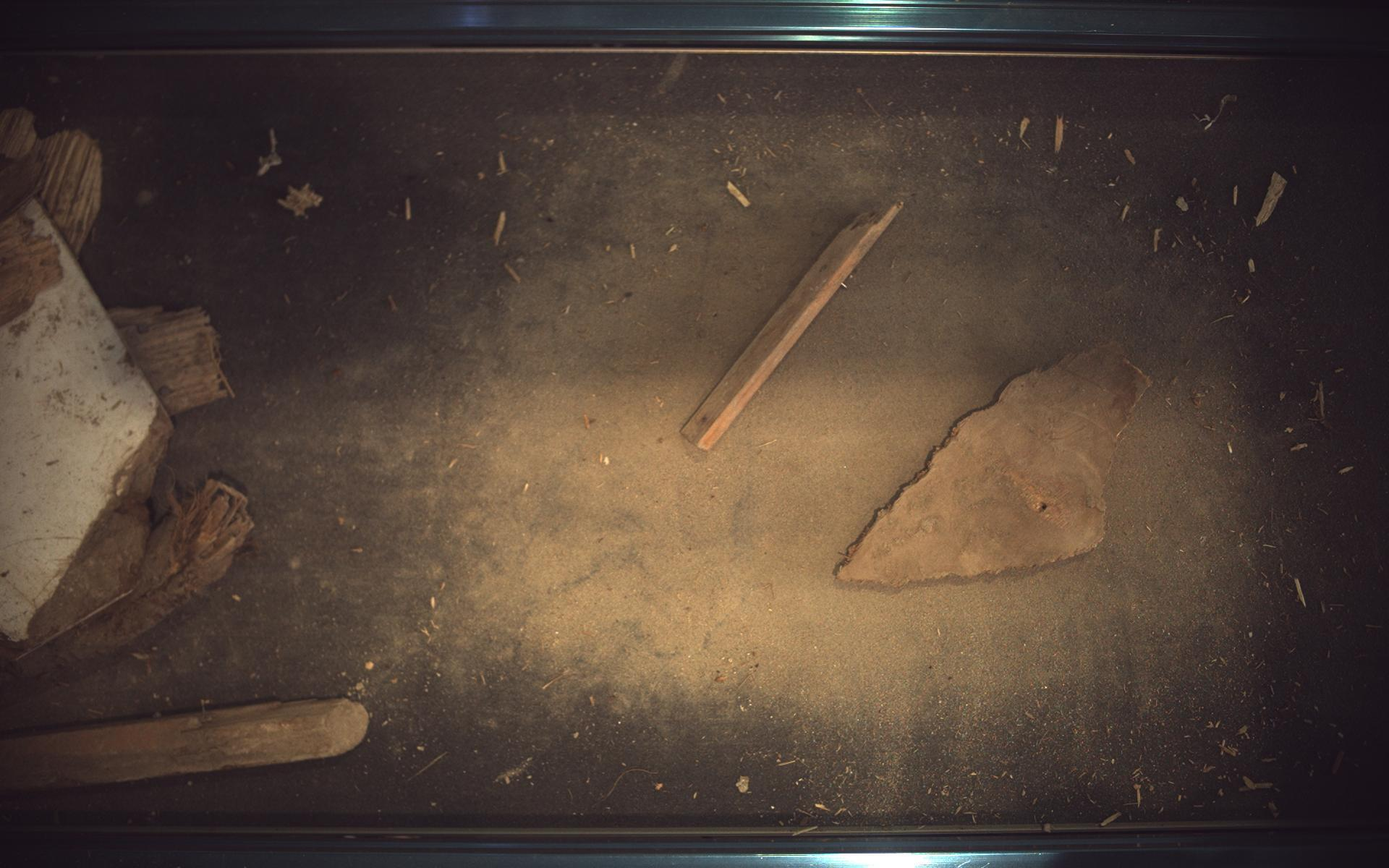wood: (838, 343, 1153, 588), (682, 200, 905, 451)
